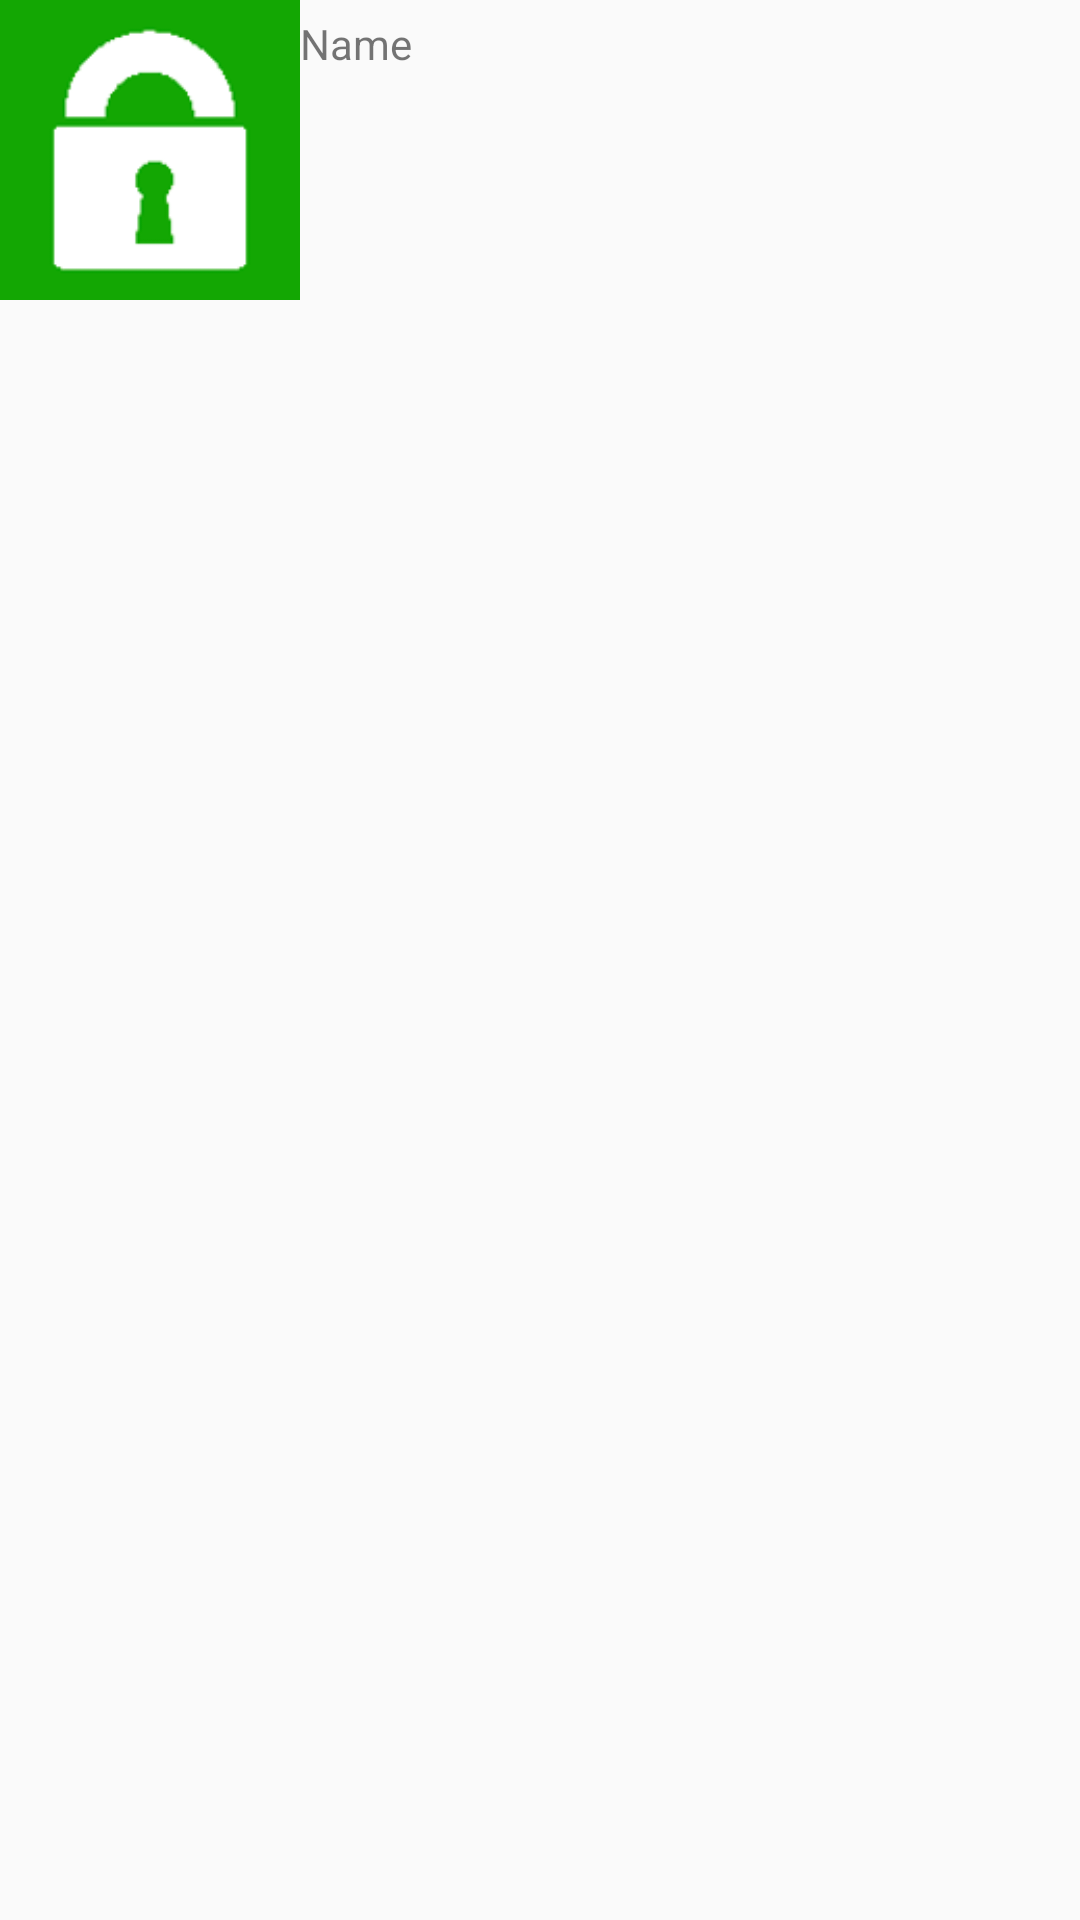

Icon click points for this 1080px×1920px phone screenshot, format [x,y]:
locker: [150,150]
